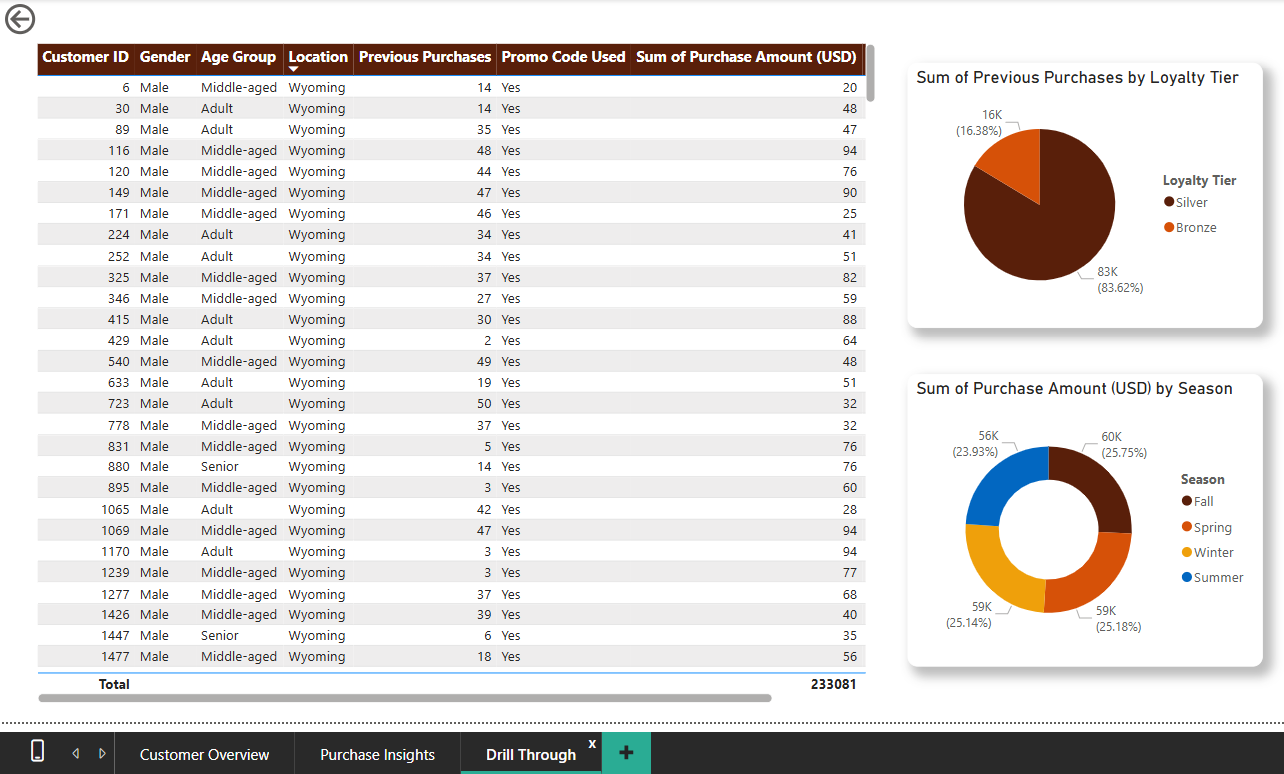

The dashboard page shown, as its layout file describes it:
{"tool":"powerbi","page":{"name":"Drill Through","canvas":[1280,720],"ordinal":2},"visuals":[{"type":"tableEx","fields":{"Values":["shopping_trends_updated.Customer ID","shopping_trends_updated.Gender","shopping_trends_updated.Age Group","shopping_trends_updated.Location","shopping_trends_updated.Previous Purchases","shopping_trends_updated.Promo Code Used","Sum(shopping_trends_updated.Purchase Amount (USD))","shopping_trends_updated.Review Rating"]},"box":[31.1,39.8,844.6,665.5],"z":0},{"type":"actionButton","box":[0,0,100,40],"z":1},{"type":"pieChart","fields":{"Category":["shopping_trends_updated.Loyalty Tier"],"Y":["Sum(shopping_trends_updated.Previous Purchases)"]},"box":[903.1,63.4,353.3,263.7],"z":2},{"type":"donutChart","fields":{"Category":["shopping_trends_updated.Season"],"Y":["Sum(shopping_trends_updated.Purchase Amount (USD))"]},"box":[903.1,373.2,353.3,291.1],"z":3}]}

Visuals, with their boxes on the page's 1280x720 design canvas (x1, y1, x2, y2). These are canvas units, not pixel positions in the 1284x774 screenshot, which may show the page scaled, cropped or inside an application window:
tableEx - shopping_trends_updated.Customer ID x shopping_trends_updated.Gender: bbox=(31, 40, 876, 705)
actionButton: bbox=(0, 0, 100, 40)
pieChart - shopping_trends_updated.Loyalty Tier x Sum(shopping_trends_updated.Previous Purchases): bbox=(903, 63, 1256, 327)
donutChart - shopping_trends_updated.Season x Sum(shopping_trends_updated.Purchase Amount (USD)): bbox=(903, 373, 1256, 664)
